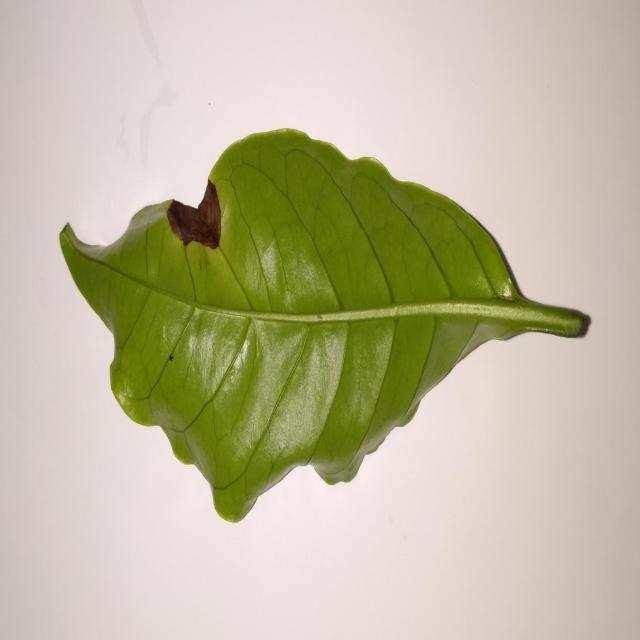Enfermedad-Antracnosis: (58, 128, 593, 526)
